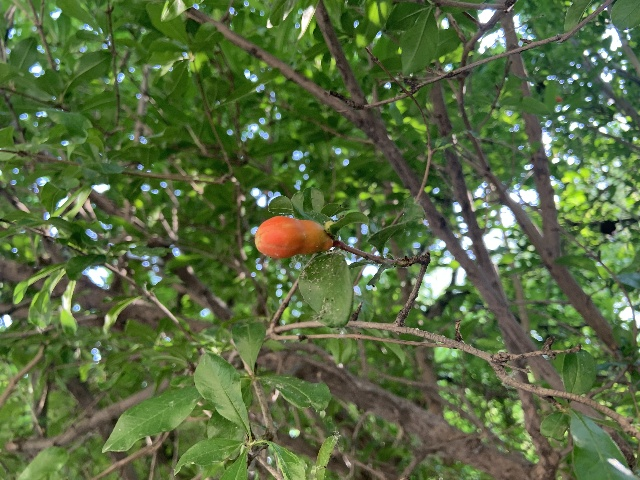bud: (254, 215, 331, 258)
